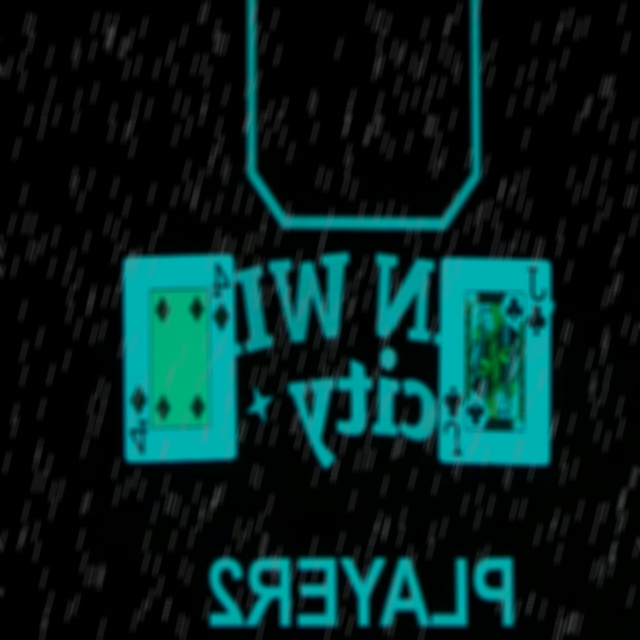4D: (123, 381, 149, 457), (209, 255, 233, 336)
JC: (526, 262, 553, 339), (440, 380, 465, 459)
